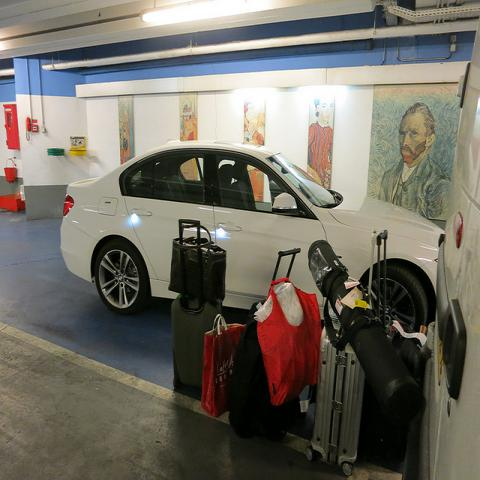car: (60, 142, 446, 328)
